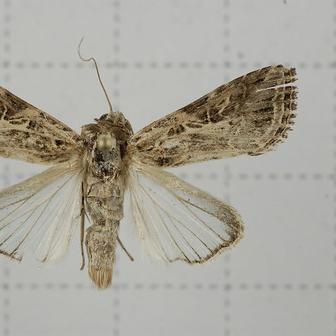Spodoptera litura: (1, 36, 299, 290)
